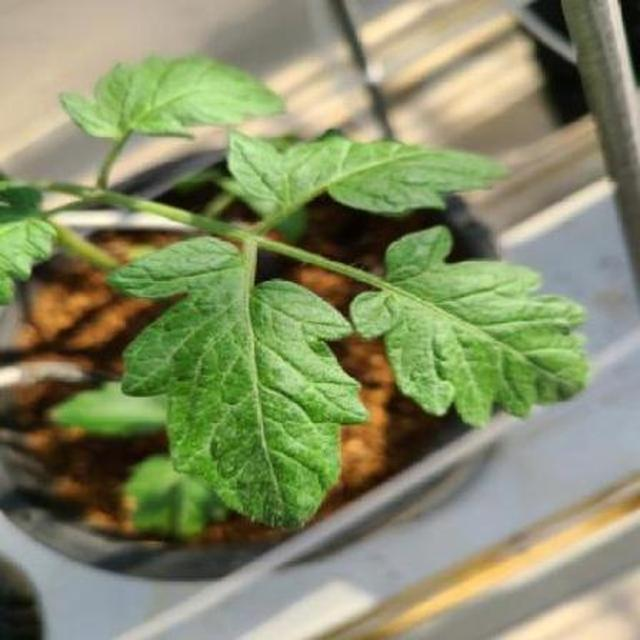Healthy Leaf: (246, 114, 640, 548)
